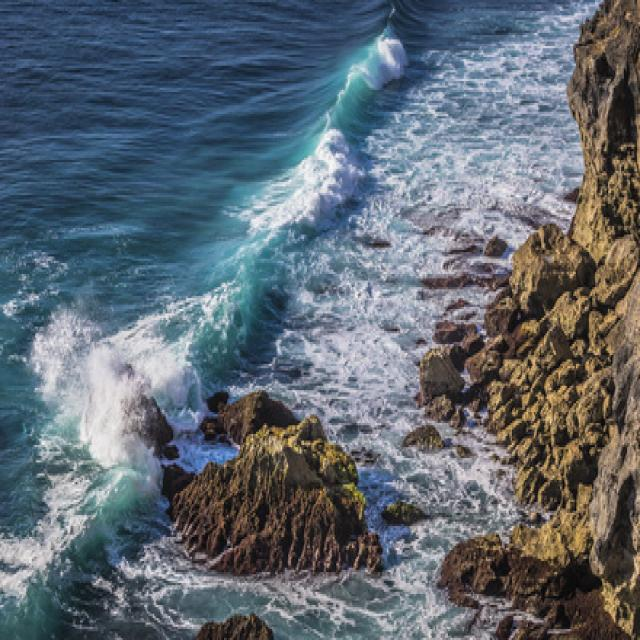reef: (131, 362, 390, 584), (408, 177, 530, 483)
